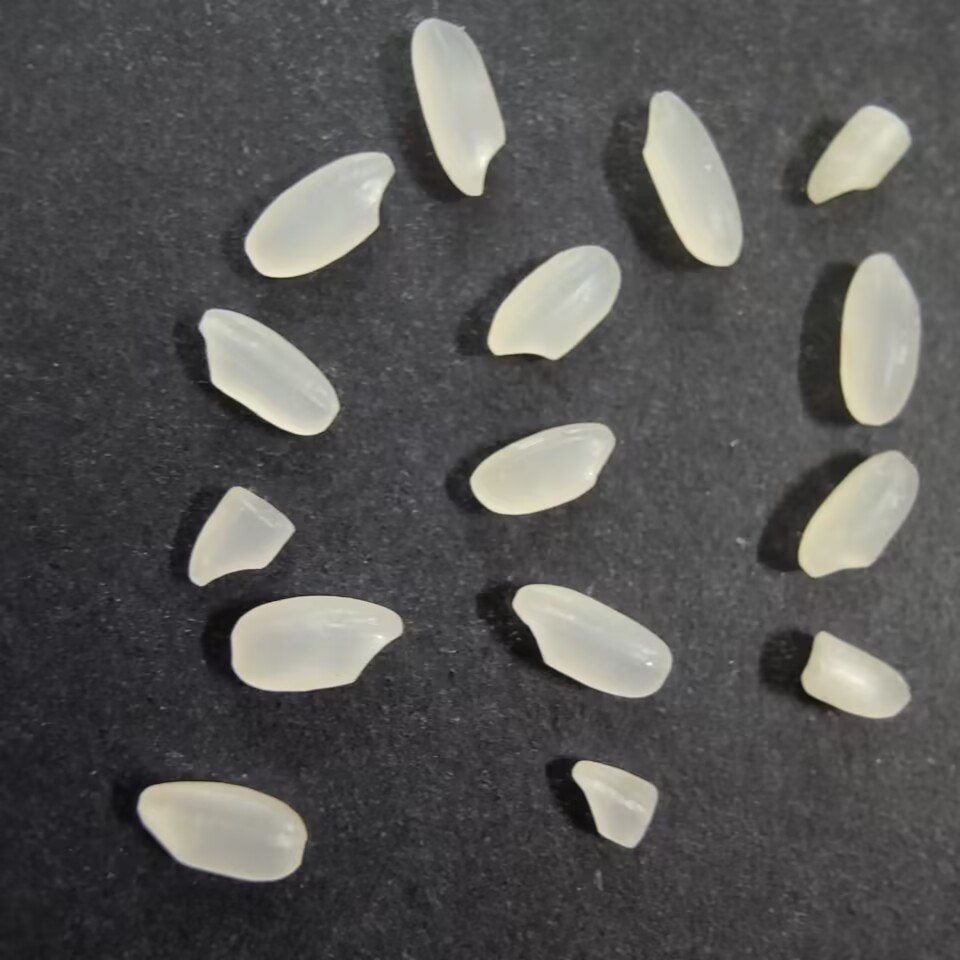broken: (800, 99, 916, 206), (183, 481, 297, 589), (796, 626, 912, 725), (567, 756, 664, 850)
rice: (509, 580, 679, 701), (194, 304, 342, 440), (637, 87, 745, 273), (242, 150, 397, 279), (130, 777, 307, 883), (409, 14, 510, 199), (228, 593, 407, 693), (792, 445, 925, 578), (486, 240, 625, 362), (836, 245, 925, 432), (468, 417, 614, 518)
